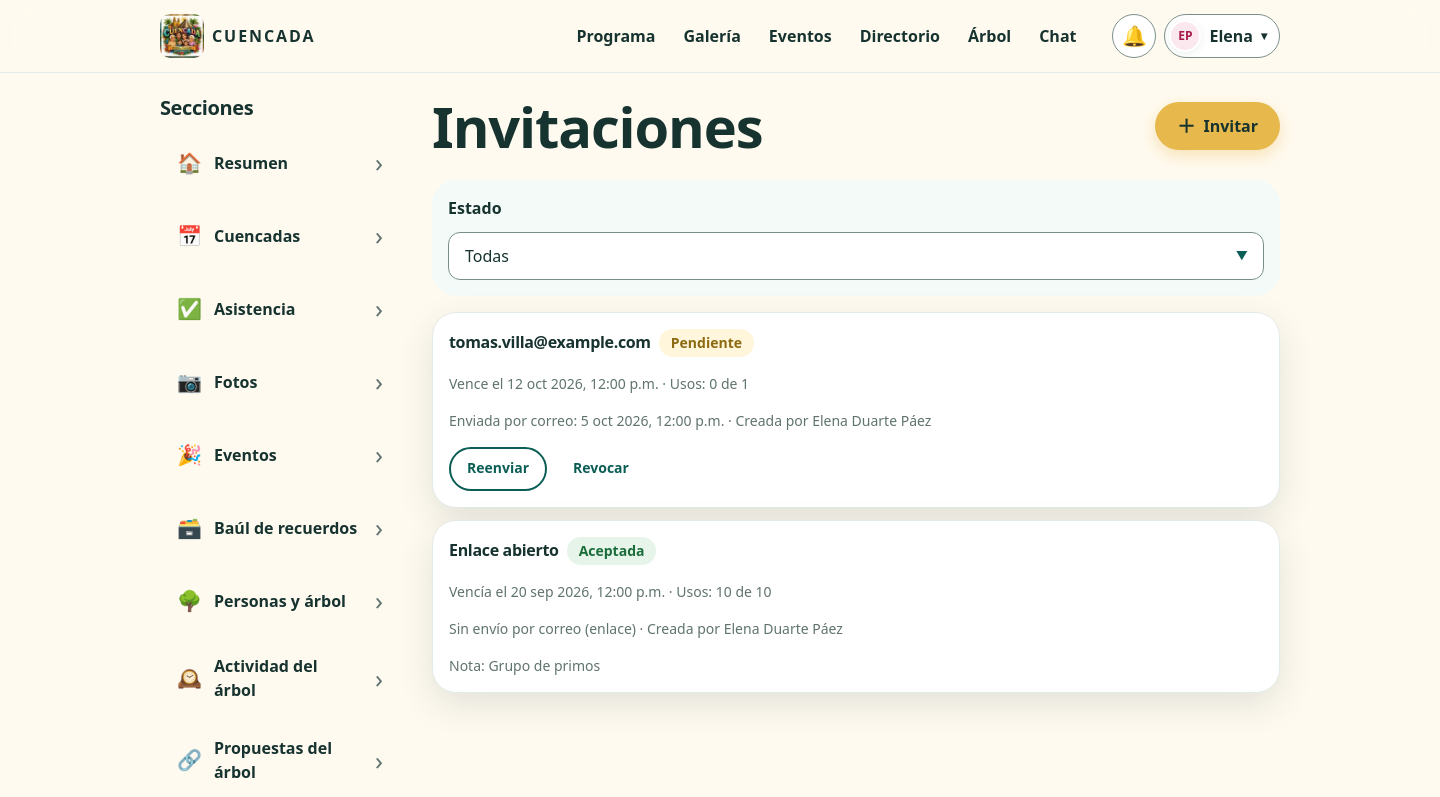
it: Invite form: Persona en el árbol › shows a server refusal of the person on the picker
Click the button "＋ Invitar".
click(1218, 126)  # box x1=1155 y1=102 x2=1280 y2=150
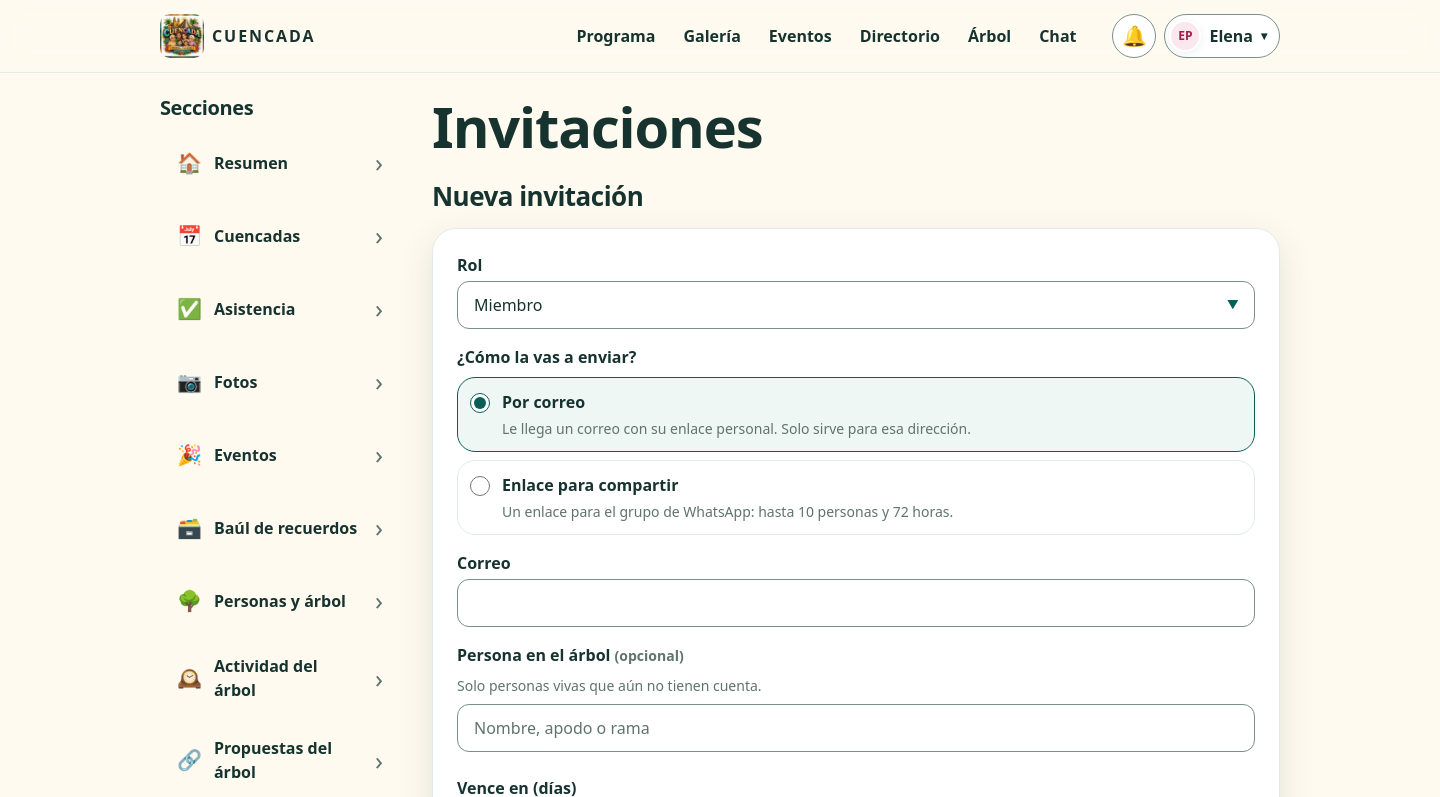
Type "ana" into the search field labelled "Persona en el árbol (opcional)".
click(856, 728); type("ana")  # box x1=457 y1=704 x2=1255 y2=752
(page scrolled)
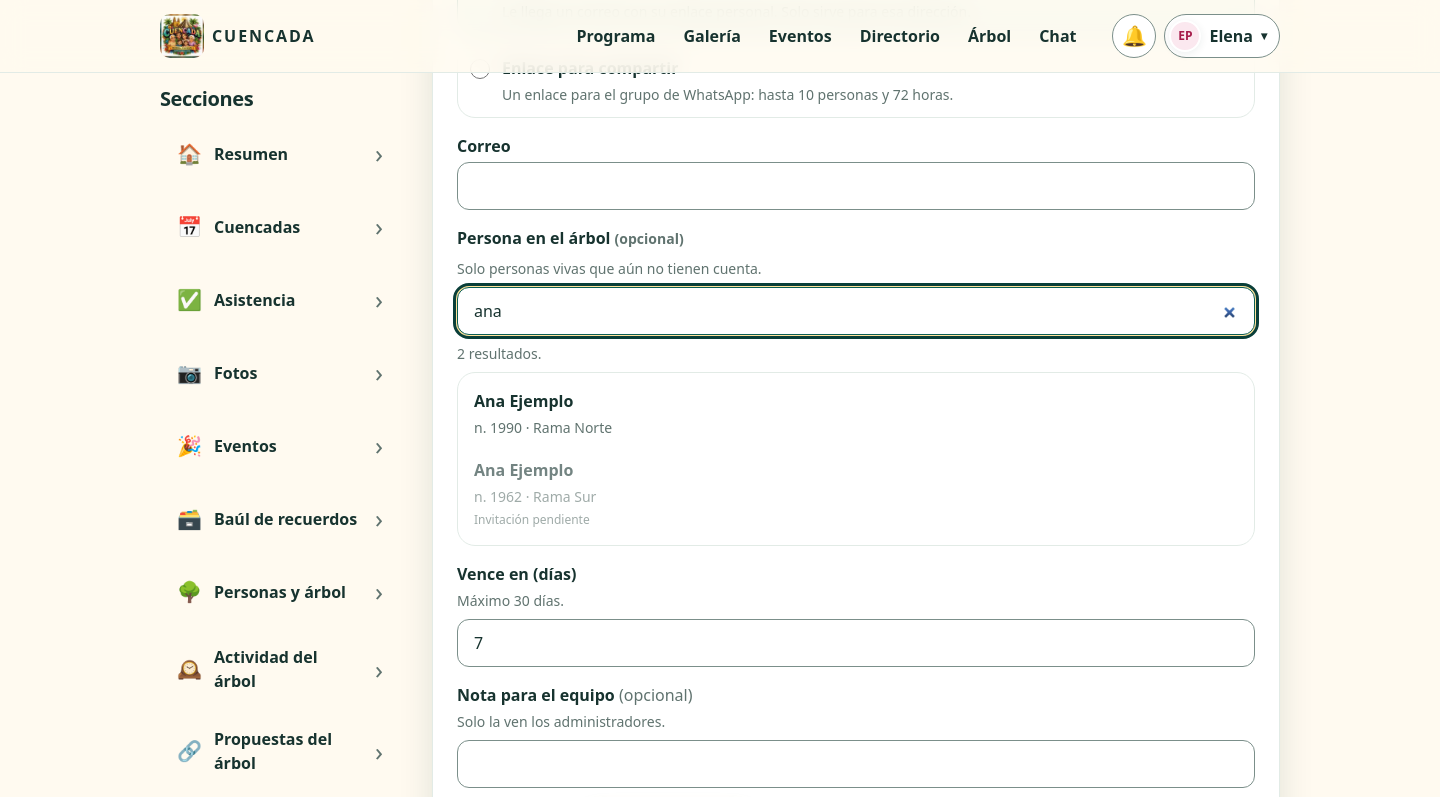
Click the button "Ana Ejemplo n. 1990 · Rama Norte".
click(524, 401)  # box x1=466 y1=381 x2=1246 y2=446
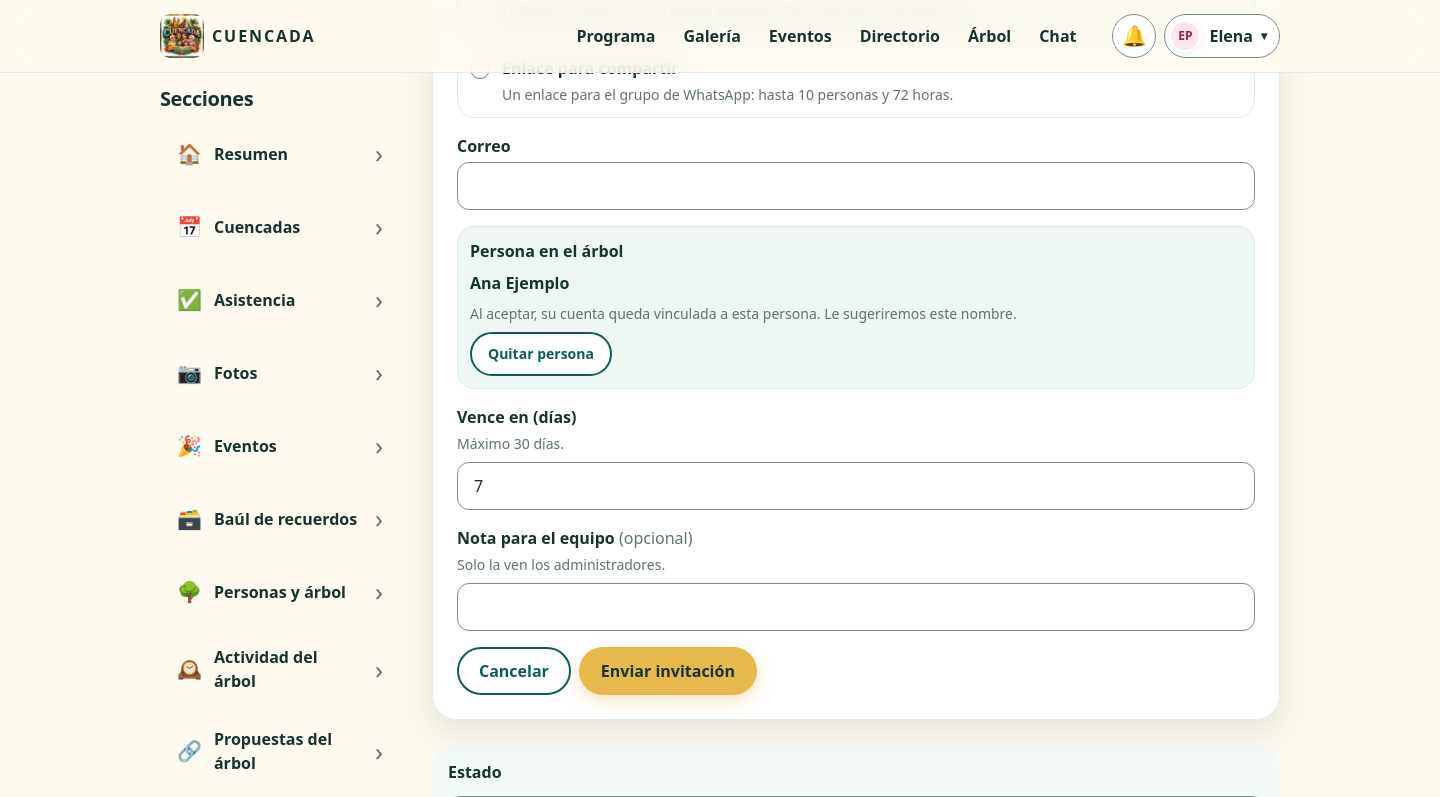
Type "ana.ejemplo@example.com" into the field labelled "Correo".
click(856, 186); type("ana.ejemplo@example.com")  # box x1=457 y1=162 x2=1255 y2=210
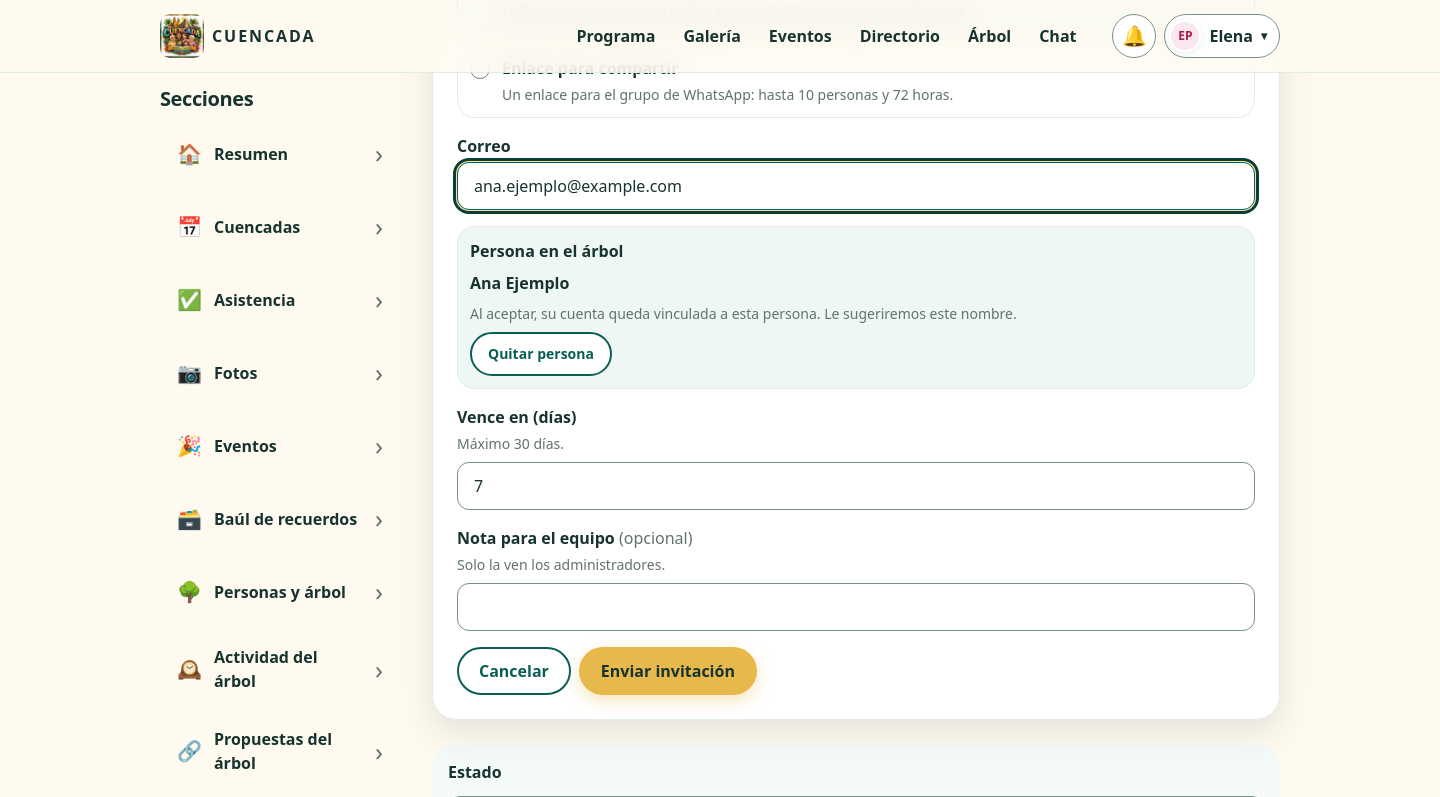
Click the button "Enviar invitación".
click(668, 671)  # box x1=579 y1=647 x2=757 y2=695
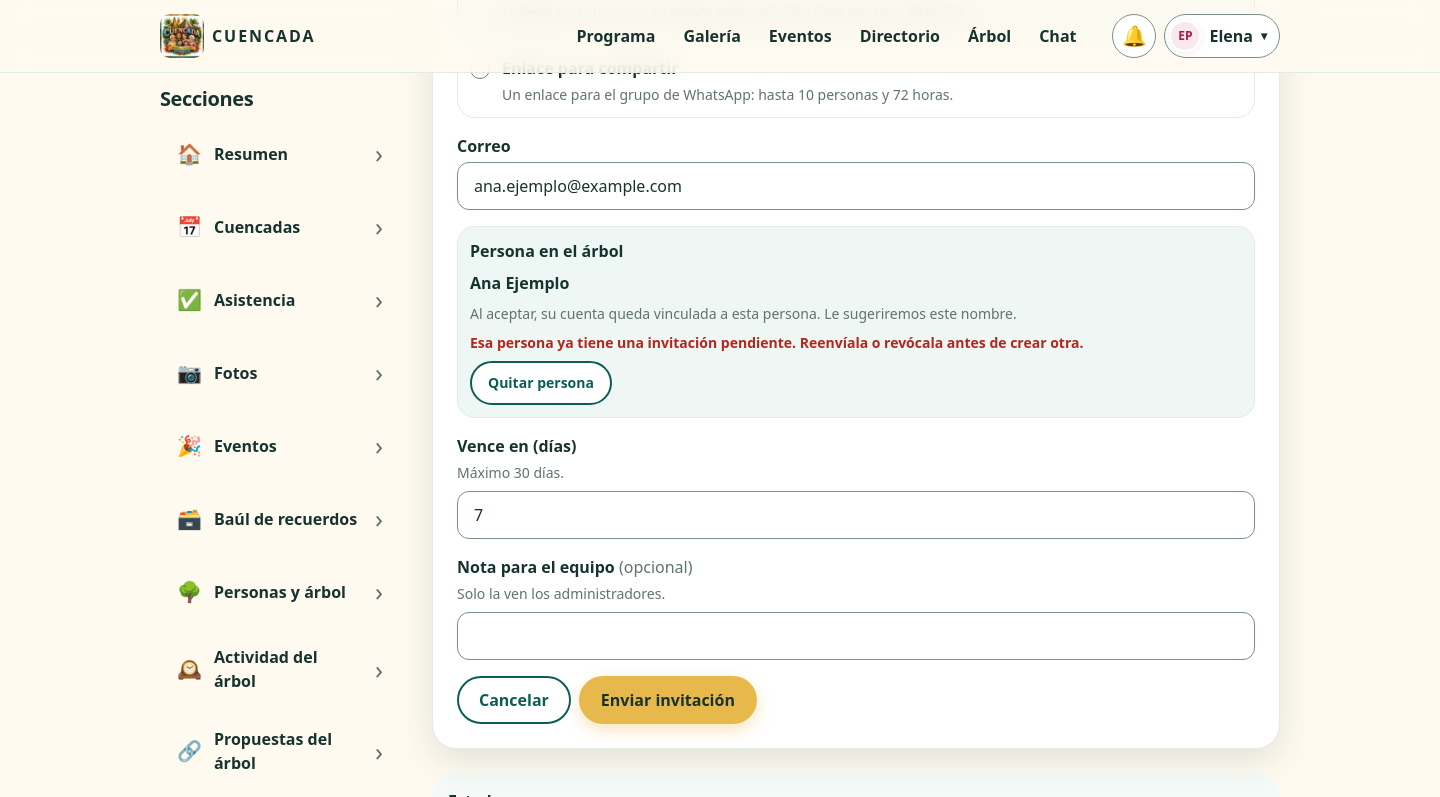
Expected: the text "ya tiene una invitación pendiente" is shown, x1=470 y1=333 x2=1083 y2=352
